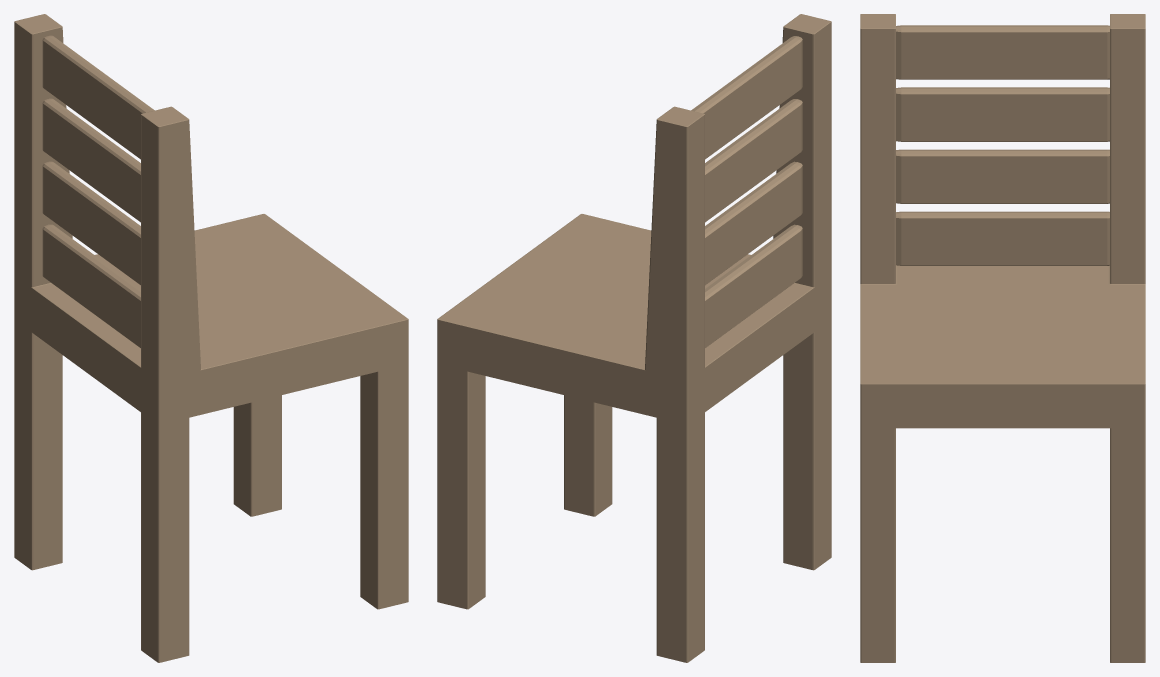
File: Chair.fbx
The picture shows the model from 3 angles, left to right: view 1: azimuth 30°, elevation 25°; view 2: azimuth 150°, elevation 25°; view 3: azimuth 270°, elevation 25°; orthographic projection.
Visible parts, largest first — view 1: Chair; view 2: Chair; view 3: Chair.
Boxes of the visible parts, x1,y1,x2,y2 form: Chair: (14,14,408,662); Chair: (437,14,831,662); Chair: (860,14,1145,662).
Bounding box in the file's own units: 28.46 × 58.2 × 28.46.
